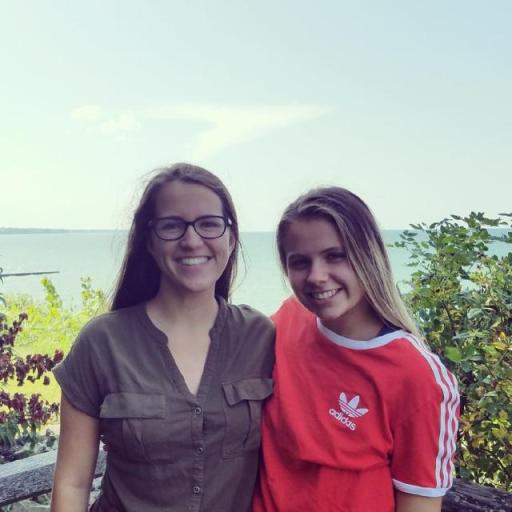Adidas: (327, 388, 370, 434)
